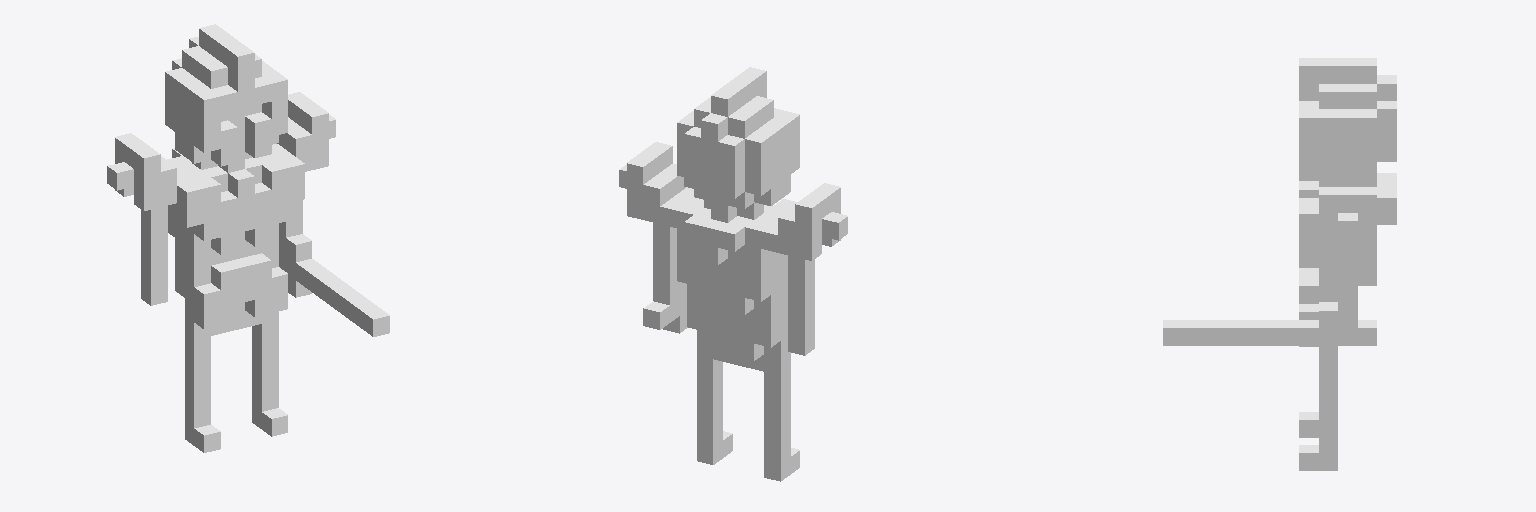
Rendered from Character1Walk-3.obj.
3 views of the same model, side by side, from view 1: azimuth 30°, elevation 25°; view 2: azimuth 150°, elevation 25°; view 3: azimuth 270°, elevation 25° (orthographic).
Visible parts, largest first — view 1: Character1Walk-3; view 2: Character1Walk-3; view 3: Character1Walk-3.
Boxes of the visible parts, <box> form: Character1Walk-3: <box>107,24,389,452</box>; Character1Walk-3: <box>619,67,847,481</box>; Character1Walk-3: <box>1163,58,1396,470</box>.
Bounding box in the file's own units: 13 × 22 × 12.